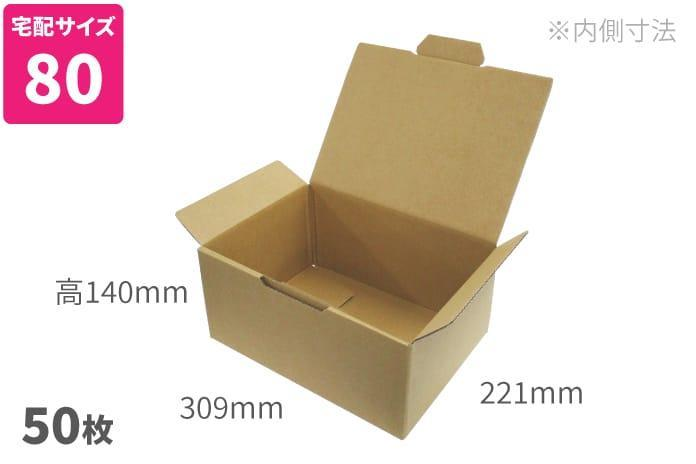box: (187, 38, 557, 431)
